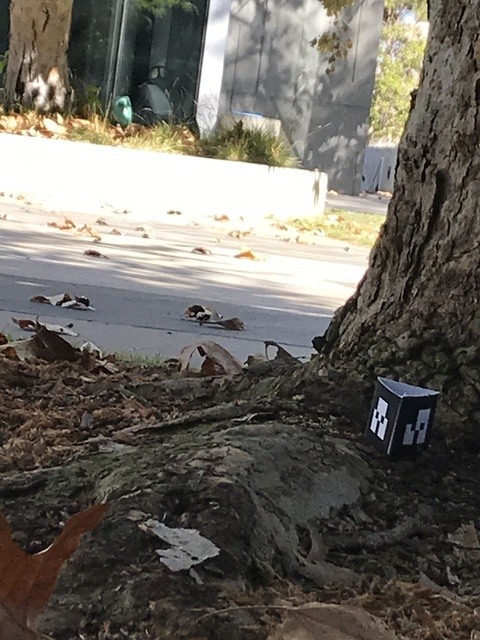ARTag: (363, 375, 441, 458)
